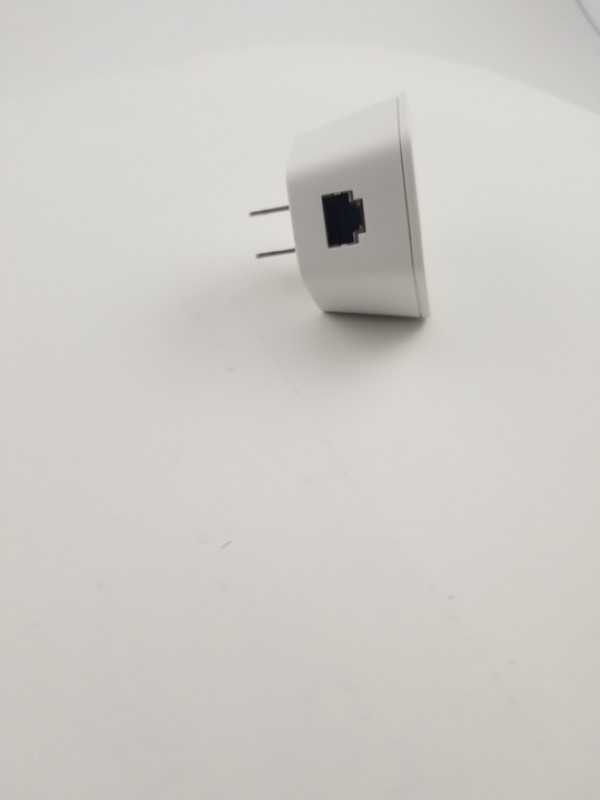pod: (247, 89, 439, 338)
